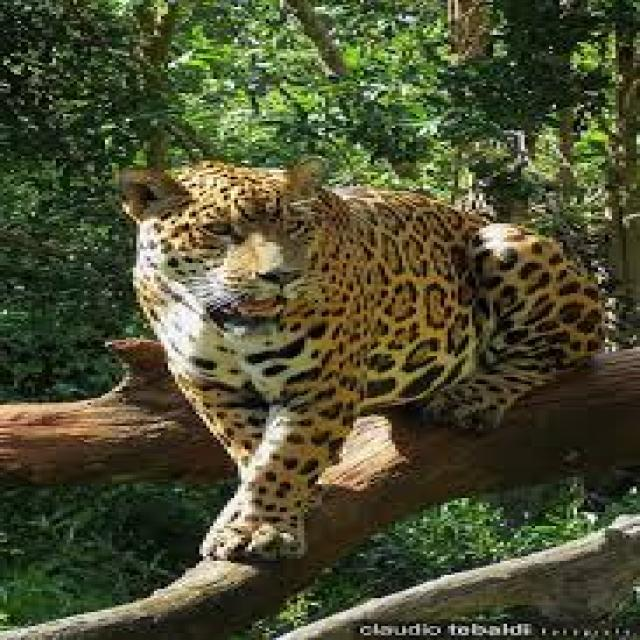Jaguar: (84, 163, 622, 542)
